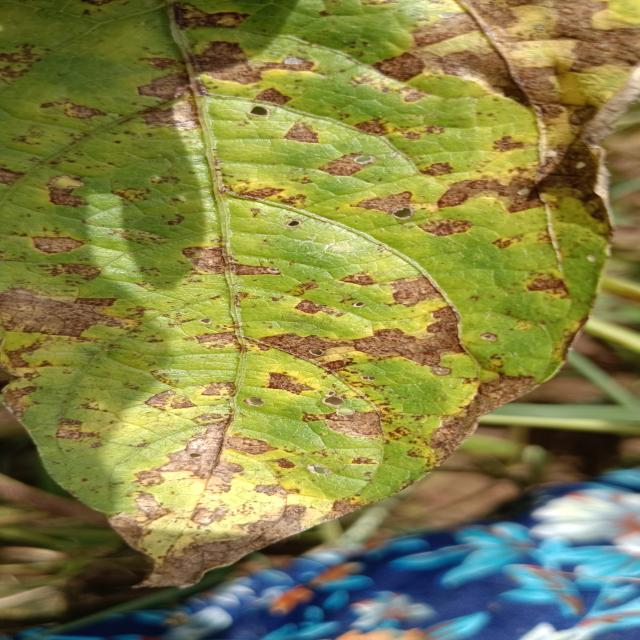Black gram_leaf spot: (0, 0, 626, 595)
